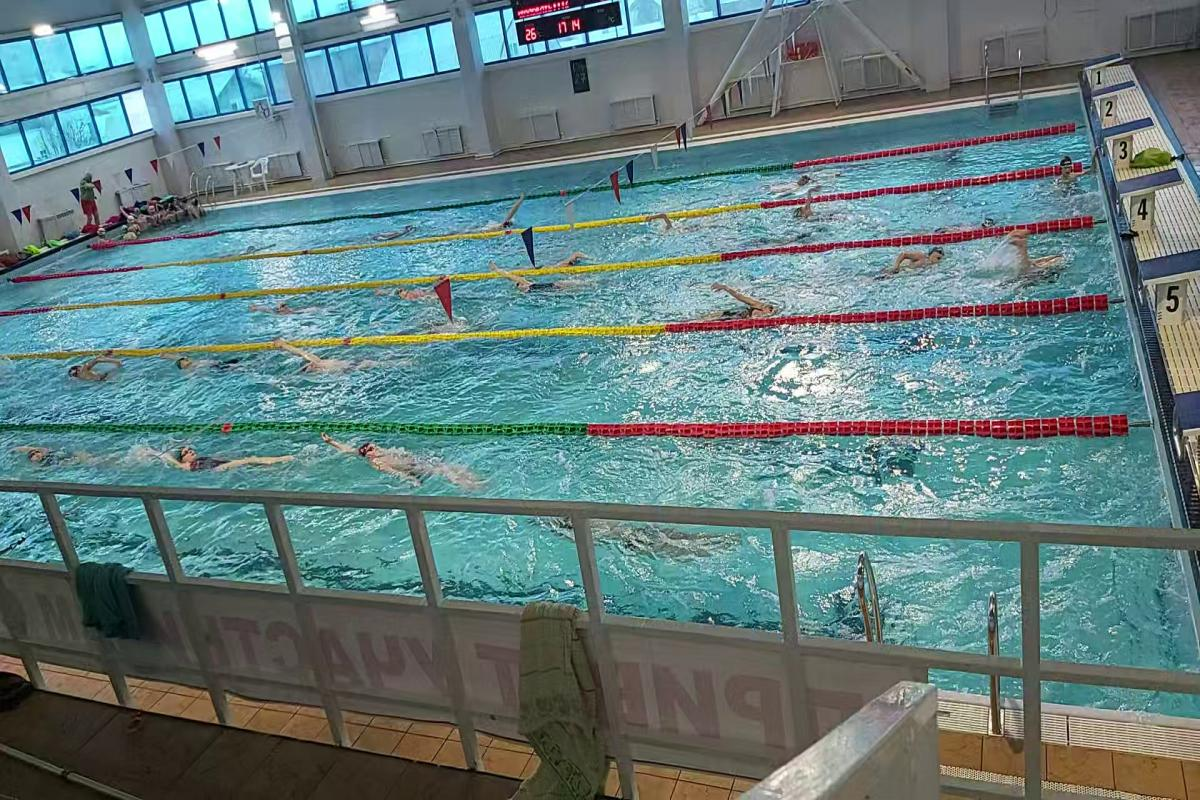swimmer: (314, 430, 485, 486), (140, 438, 298, 476), (272, 345, 386, 379), (5, 434, 114, 466), (696, 279, 786, 315), (864, 248, 949, 286), (495, 270, 586, 292), (60, 359, 129, 387), (248, 297, 321, 317), (172, 355, 241, 374), (1052, 154, 1081, 194), (786, 204, 840, 225), (372, 285, 438, 302), (540, 250, 592, 267), (368, 224, 430, 236), (479, 210, 525, 223)
